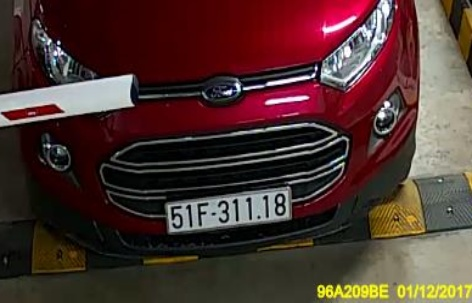plate: (163, 186, 293, 232)
